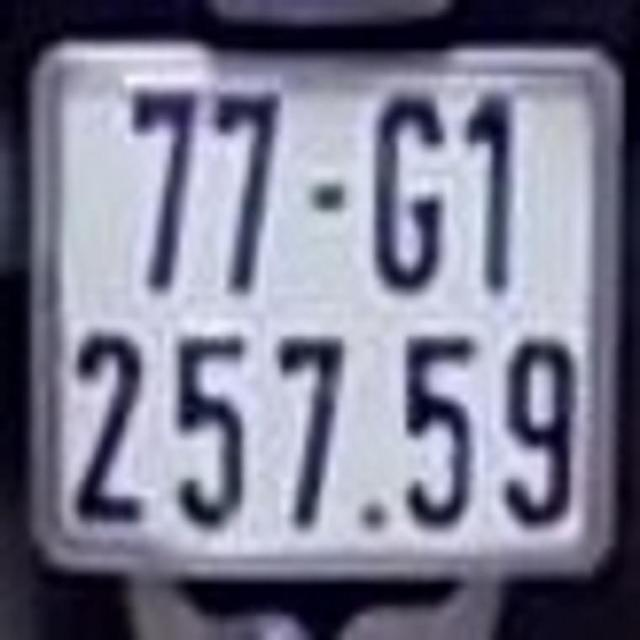1: (464, 88, 519, 292)
2: (75, 327, 144, 528)
5: (399, 330, 477, 530), (174, 328, 247, 531)
7: (212, 90, 285, 295), (274, 329, 346, 529), (128, 87, 198, 290)
9: (501, 330, 581, 533)
G: (372, 88, 443, 294)
